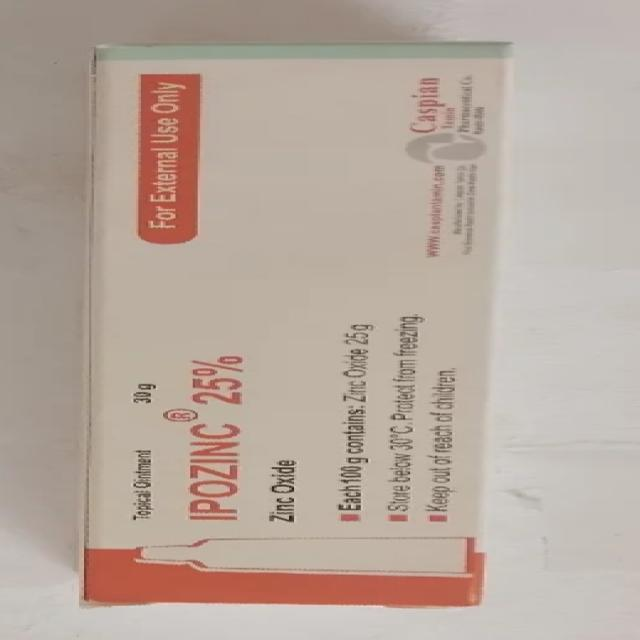drug-name: (164, 346, 252, 526)
